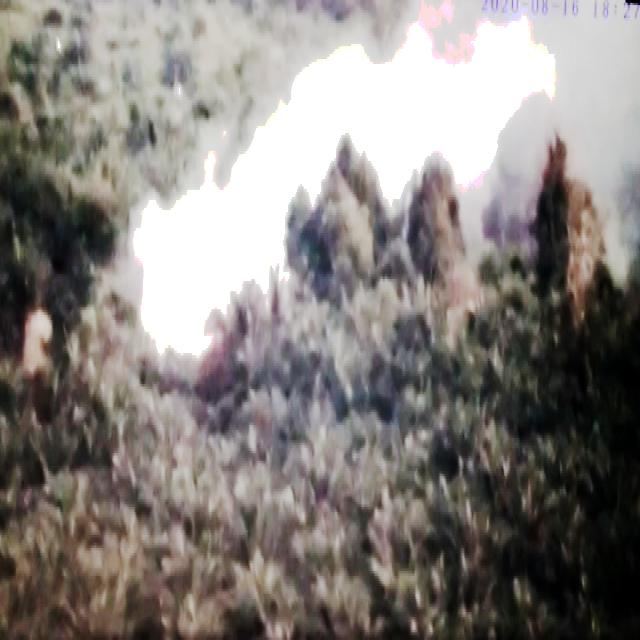asap: (117, 1, 640, 387)
